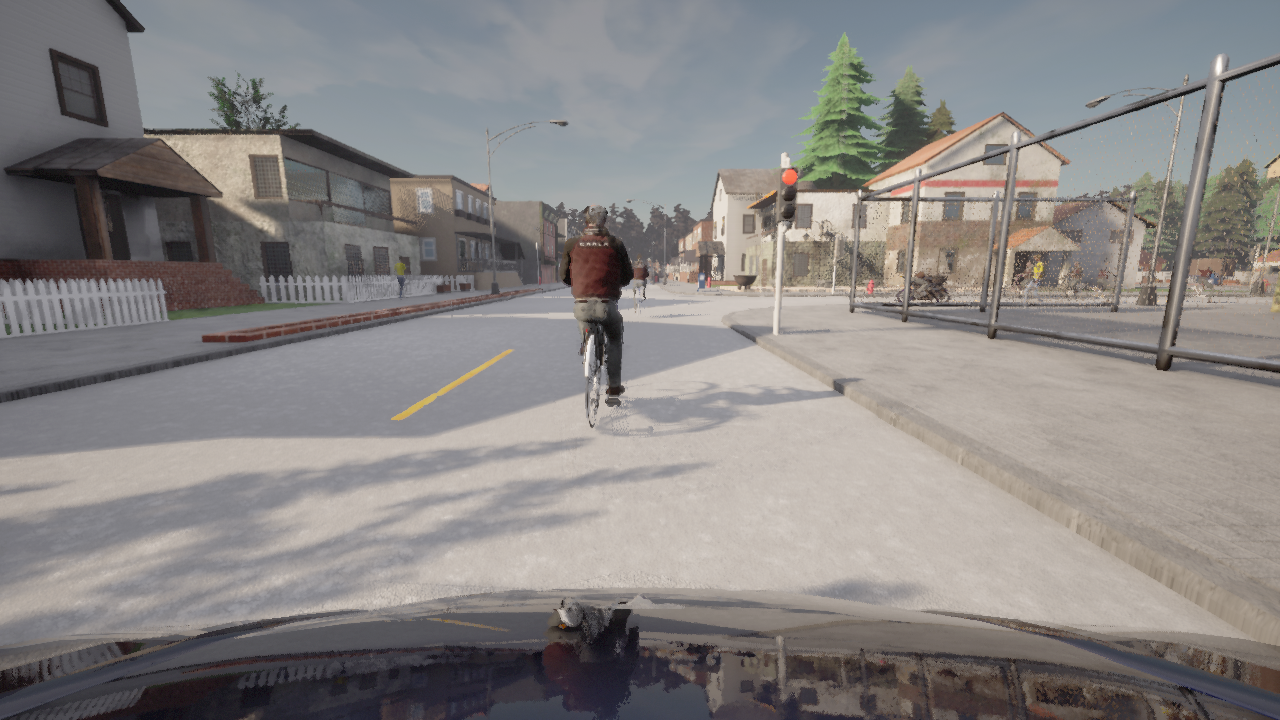cyclist: (0, 588, 1279, 719), (583, 323, 619, 428), (895, 273, 951, 302), (1185, 276, 1229, 302), (1084, 276, 1128, 302), (1003, 278, 1040, 297), (1049, 282, 1087, 297), (634, 287, 645, 317)
pedestrian: (1023, 253, 1044, 302), (393, 256, 410, 299)
